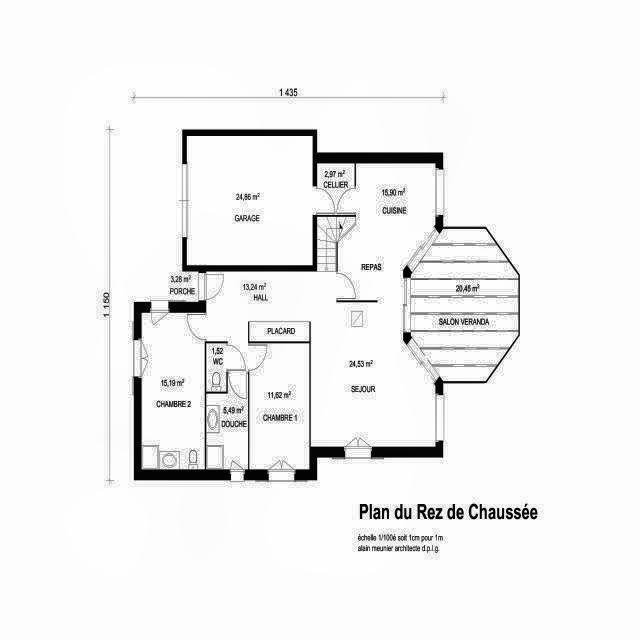room: (206, 270, 436, 448), (410, 229, 518, 381), (187, 137, 313, 265), (337, 163, 436, 301), (141, 314, 204, 468), (250, 344, 309, 469), (206, 374, 248, 469), (318, 163, 354, 215), (249, 322, 310, 341), (206, 343, 226, 392)
